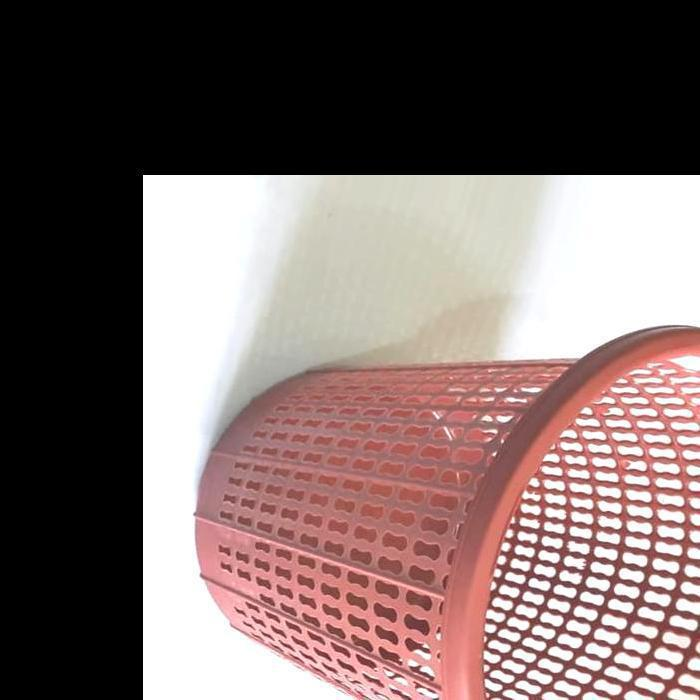Bote de Basura: (184, 326, 700, 700)
